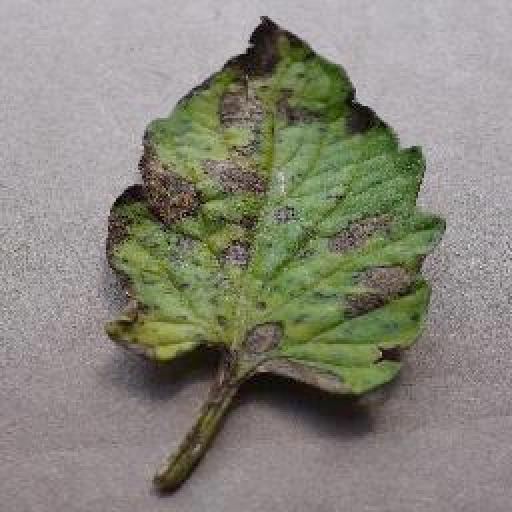disease_tomato: (98, 14, 451, 402)
